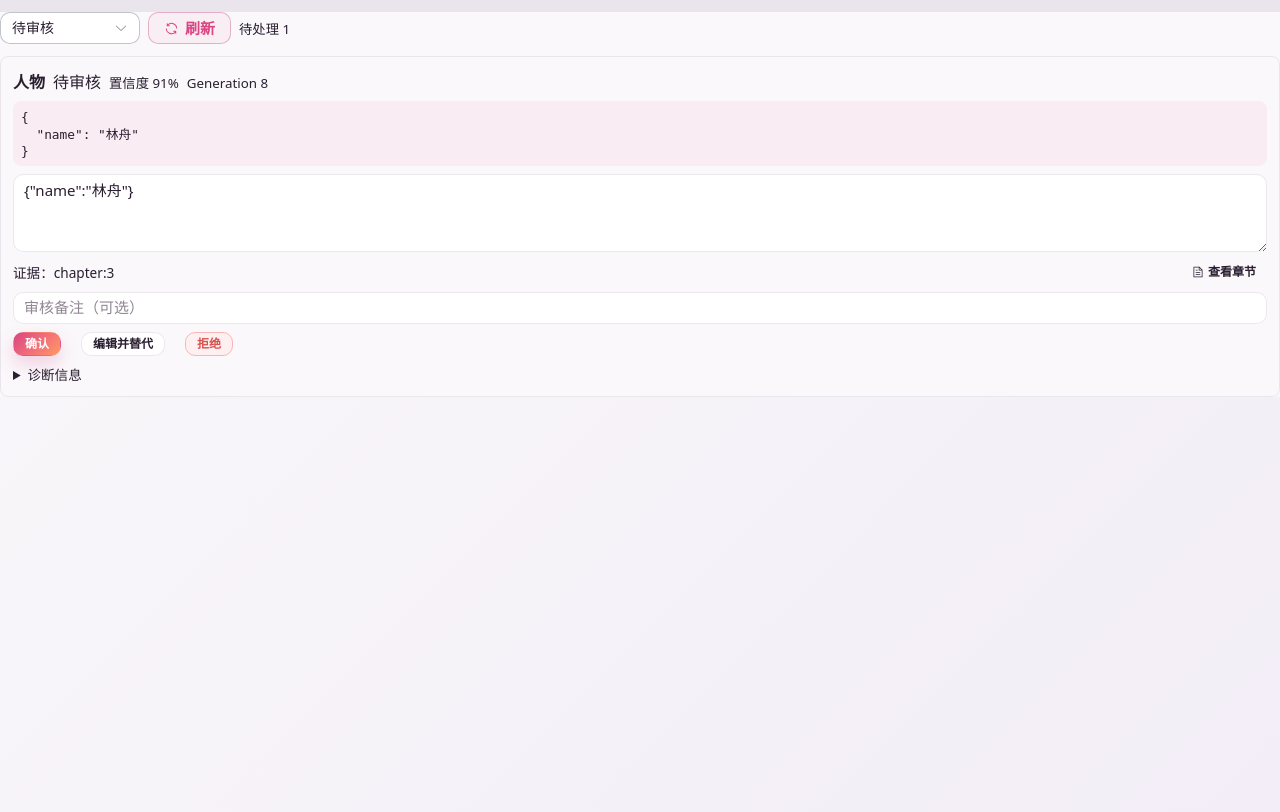
Test: ProjectExtractionReview › keeps review errors local
Click the button with test id "extraction-reject" at (209, 344), box [185,332,233,356]
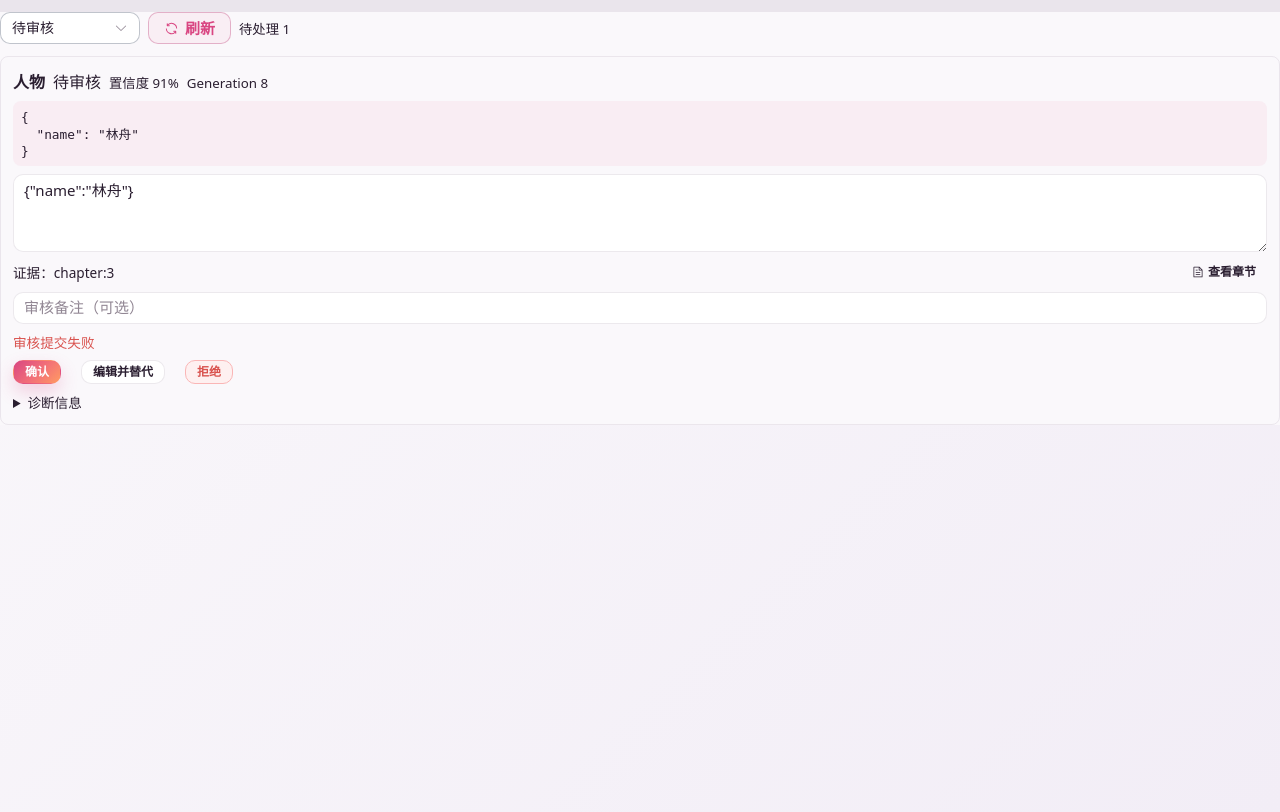
Check: the text with test id "extraction-review-error" reads "审核提交失败", box [13,332,95,352]
